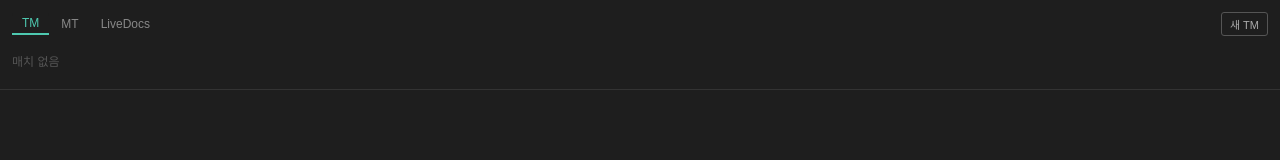
TmPanel › LiveDocs 탭 › 검색 중에 '검색 중...' 로딩 상태가 표시된다
Step 1. Click the button "LiveDocs" → [125, 24], box x1=91 y1=13 x2=160 y2=35
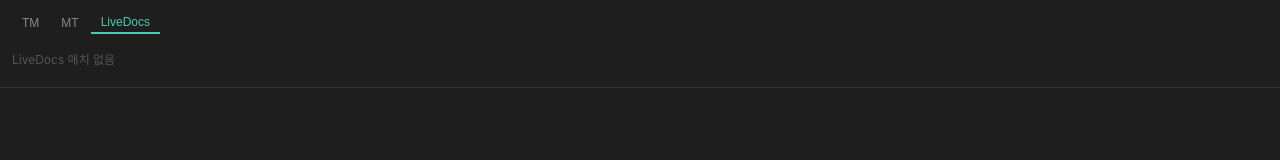
Expected: the text "검색 중..." is shown, x1=12 y1=52 x2=115 y2=67
